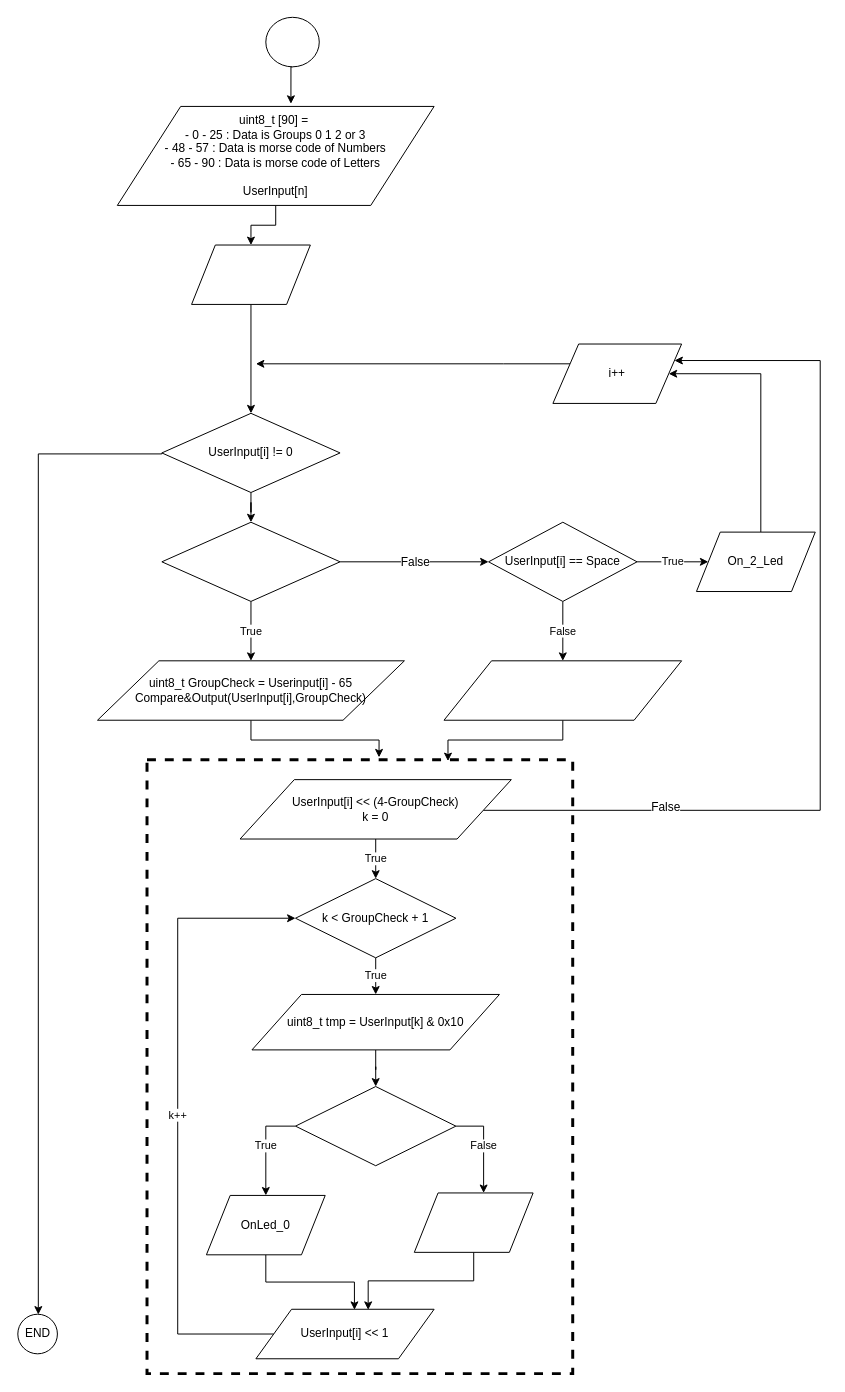
Image size: 845x1392. Some labels were removed from this diagram. The centre of each missing label's shape, as x and y in pixels:
"A <= UserInput[i] <= Z" belongs at [250,561].
"Compare&Output(UserInput[i],4)" belongs at [562,690].
"int i = 0" belongs at [250,274].
"OnLed_1" belongs at [473,1222].
"START" belongs at [292,41].
"tmp == 0x00" belongs at [375,1126].
